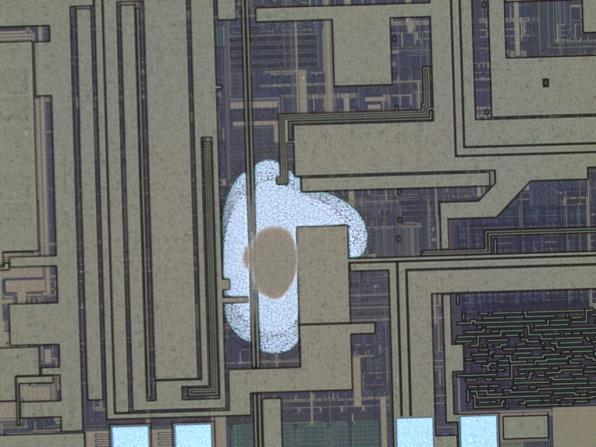BLOCK ETCH: (222, 152, 377, 362)
